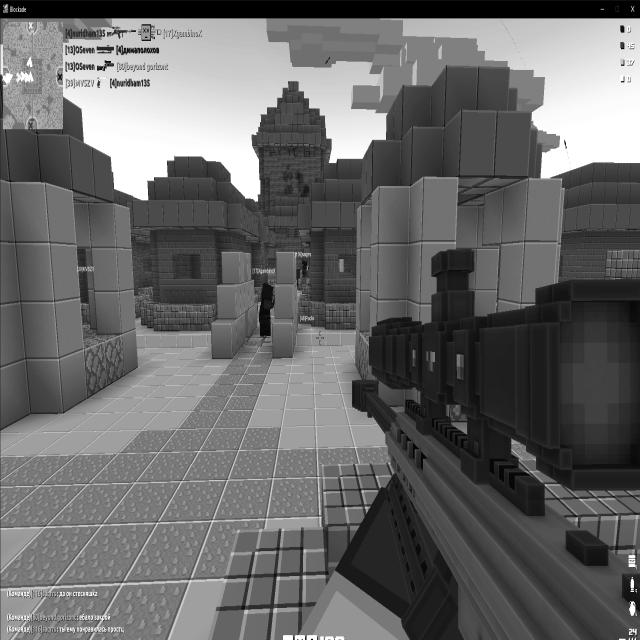Head: (262, 281, 276, 300), (303, 256, 308, 268)
Player: (258, 281, 274, 337), (302, 252, 308, 278)
